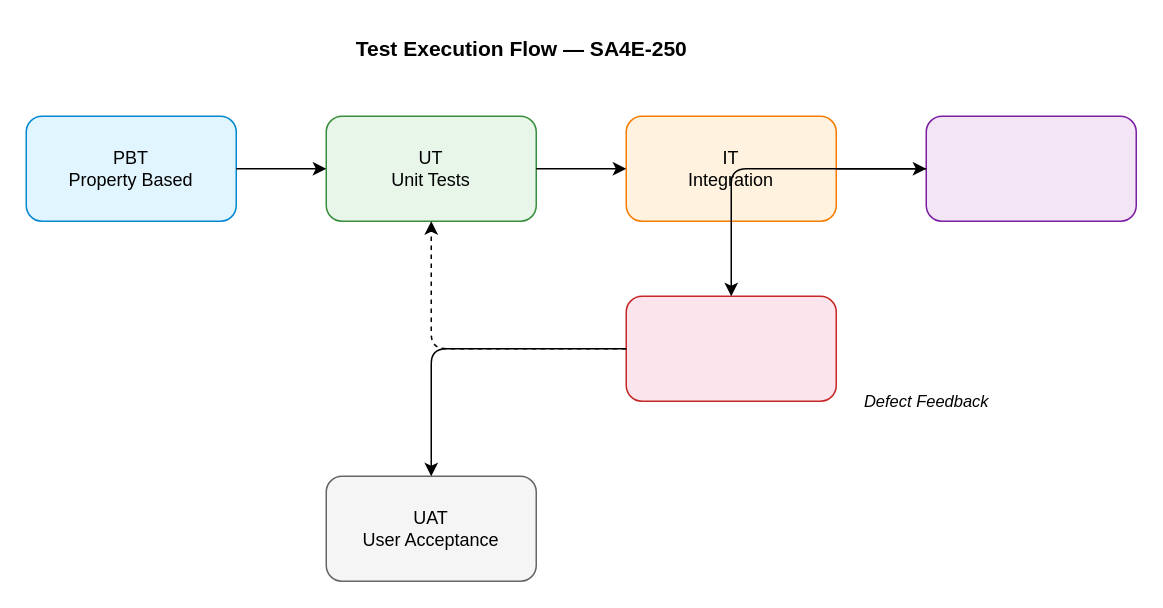
This 1163x608 diagram has some shape labels left out. The box of each missing label's shape, as (x1, y1, x2, y2) in pixels:
E2E-API REST E2E: (925, 115, 1136, 221)
SIT Manual: (625, 295, 836, 401)
